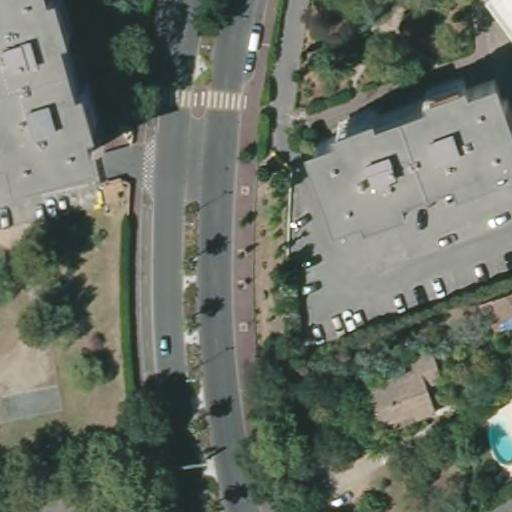pool: (486, 408, 511, 471)
